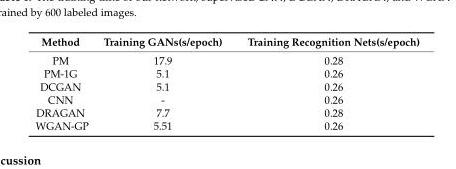table: (34, 34, 419, 131)
table column: (234, 34, 419, 131), (95, 34, 234, 131), (34, 34, 95, 131)
table column header: (34, 34, 419, 50)
table row: (34, 34, 419, 50), (34, 50, 419, 66), (34, 66, 419, 79), (34, 79, 419, 92), (34, 92, 419, 105), (34, 105, 419, 118), (34, 118, 419, 131)
